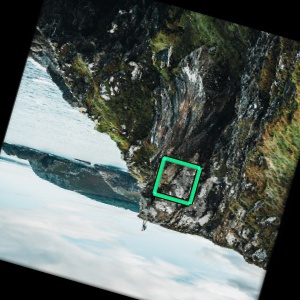square: (149, 154, 203, 206)
